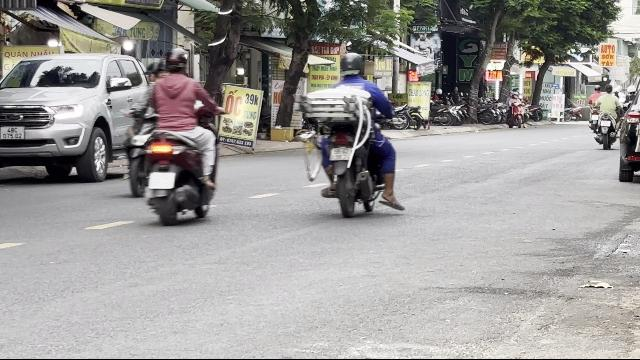helmet: (162, 47, 188, 75), (338, 52, 364, 78)
licenseplate: (148, 173, 174, 189), (330, 146, 350, 160)
motorcyclist: (294, 50, 400, 218), (125, 46, 221, 226)
